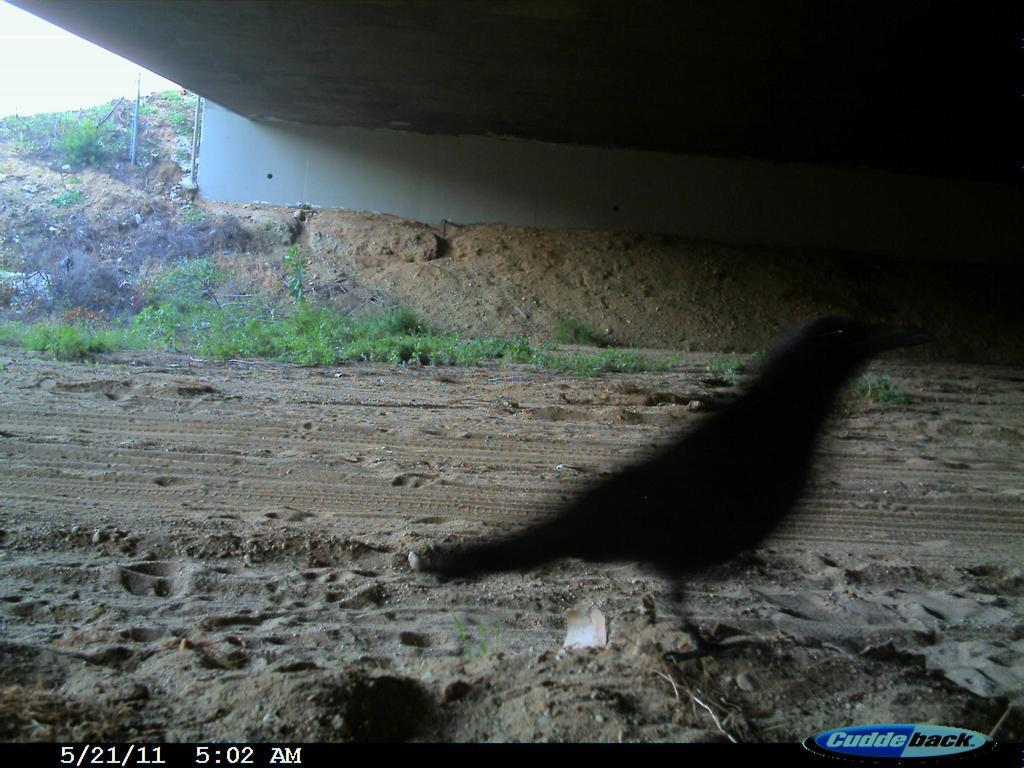bird: (422, 308, 936, 605)
